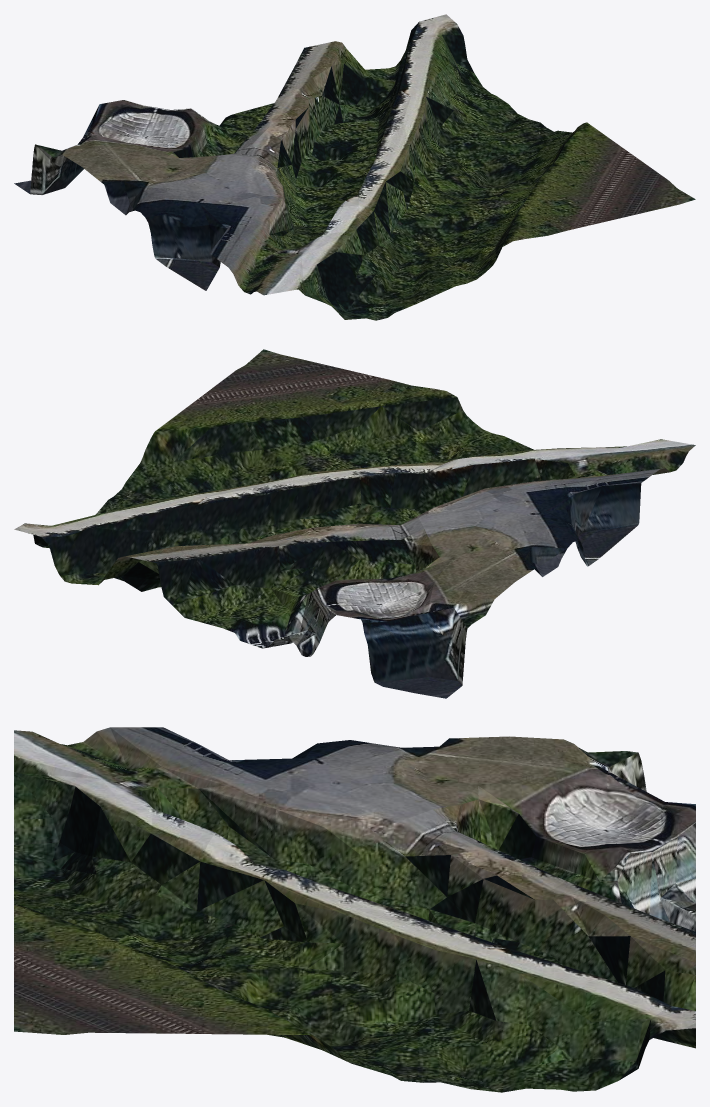
The model's file is map_15_8182_13788.dae.
3 views of the same model, one above another, from view 1: azimuth 30°, elevation 25°; view 2: azimuth 150°, elevation 25°; view 3: azimuth 270°, elevation 25° (orthographic). The views are drawn at different scales.
Parts seen in each view (by area): view 1: Ter0; view 2: Ter0; view 3: Ter0.
Part boxes in pixels (box(x1,y1,x2,y2)): Ter0: box(14, 14, 695, 320); Ter0: box(14, 349, 695, 698); Ter0: box(14, 727, 695, 1092).
Bounding box in the file's own units: 63.88 × 63.88 × 10.84.
Materials: 4 (4 with a texture image).
